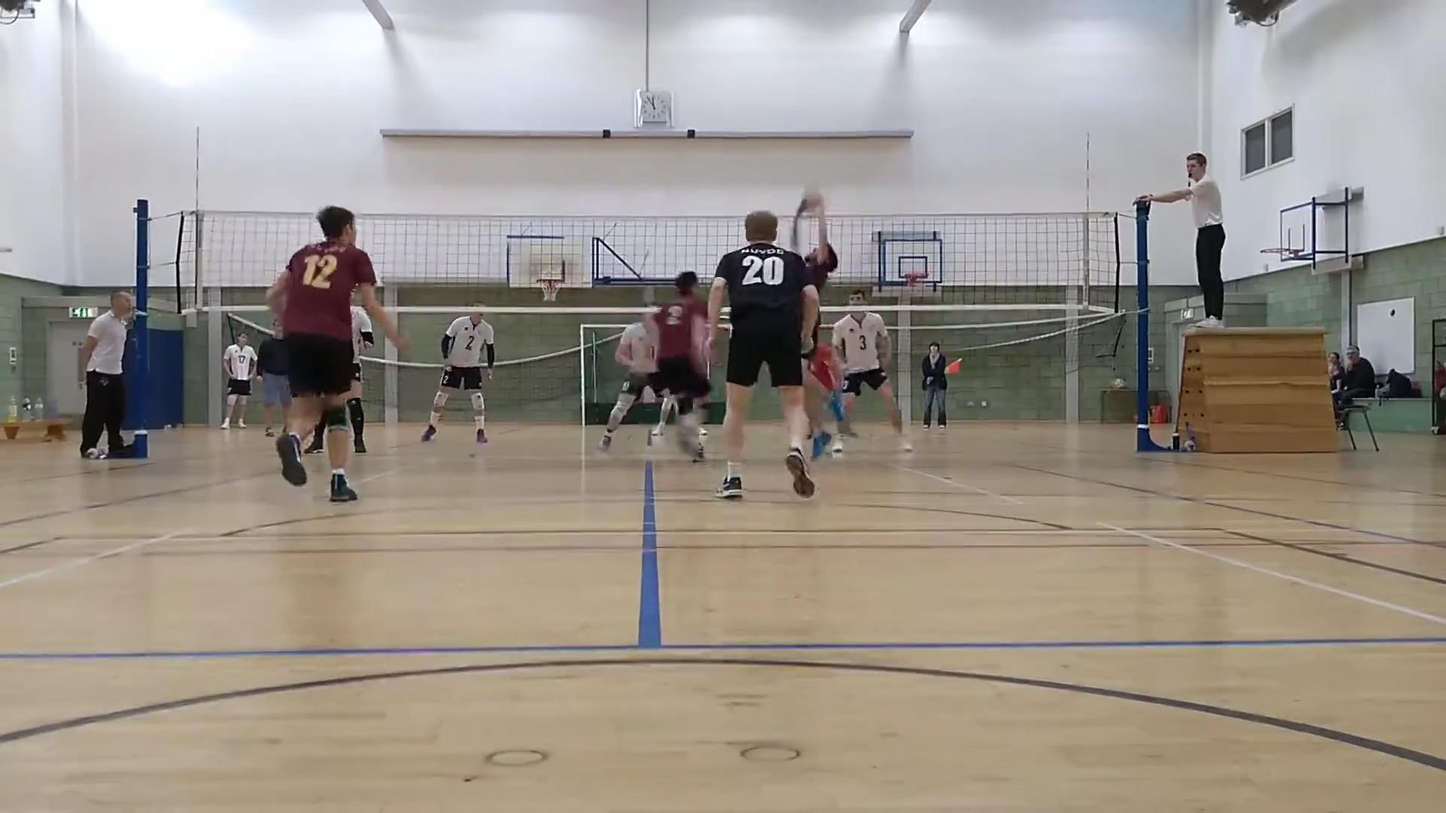alzata: (791, 187, 840, 295)
